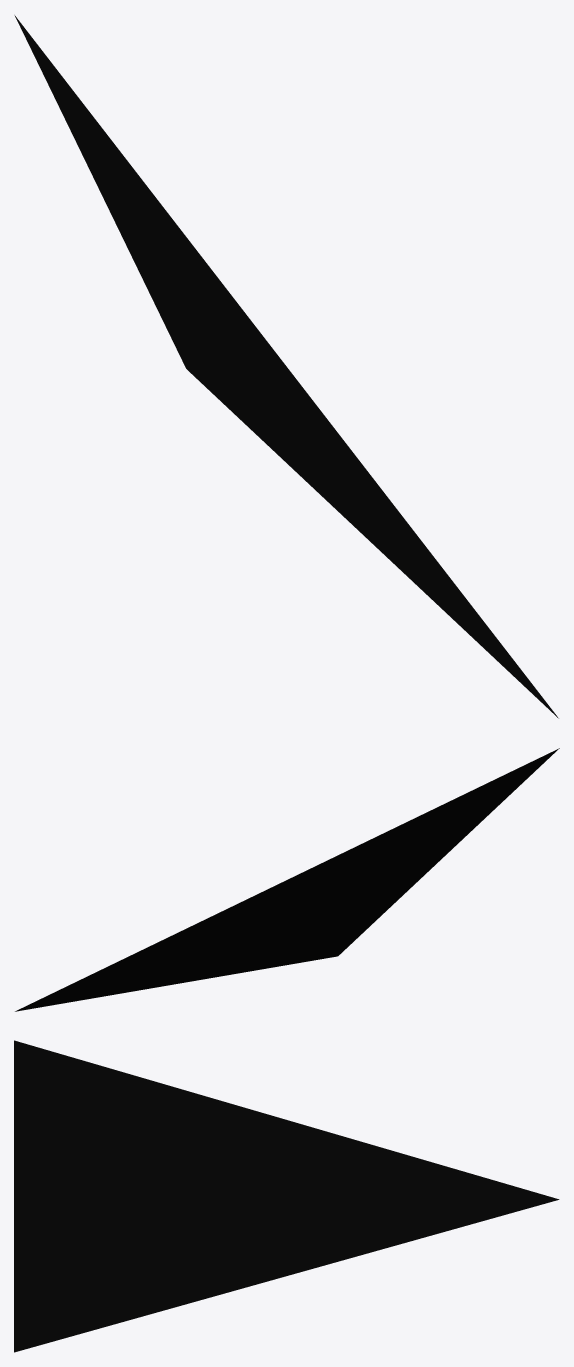
3 views of the same model, one above another, from view 1: azimuth 30°, elevation 25°; view 2: azimuth 150°, elevation 25°; view 3: azimuth 270°, elevation 25° (orthographic). The views are drawn at different scales.
Bounding box in the file's own units: 0.00175 × 0.00198 × 0.00444.
Materials: 1 (1 with a texture image).
